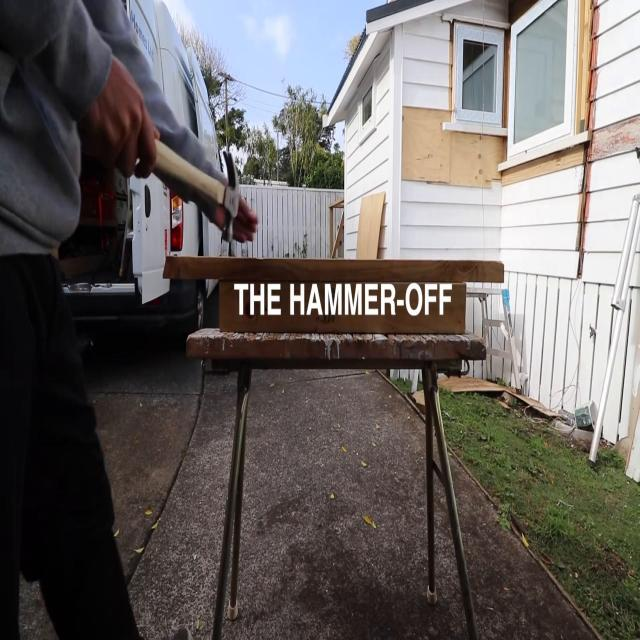hammer: (137, 132, 238, 247)
